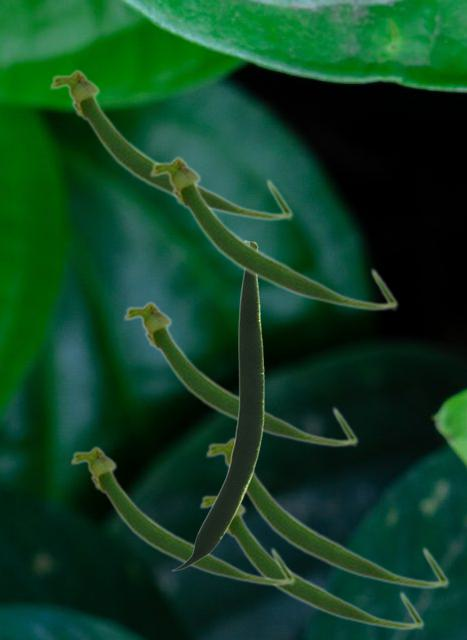french_bean: (148, 154, 398, 311), (48, 67, 293, 221), (204, 435, 449, 589), (122, 299, 358, 447), (69, 444, 295, 586), (198, 492, 424, 630), (171, 240, 263, 570)
